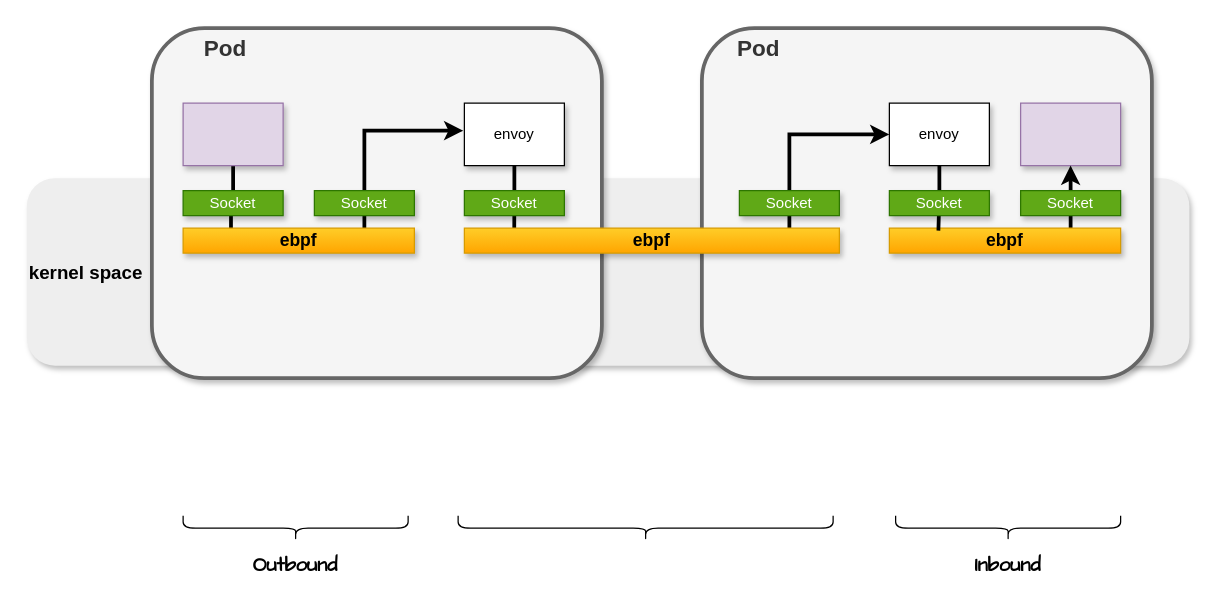
The diagram is 1218 pixels wide and 600 high, and some of its shapes have lost their labels. Each missing label, with the centre of its shape:
"client" goes at (x=234, y=135).
"Envoy to Envoy" goes at (x=645, y=527).
"server" goes at (x=1071, y=135).
